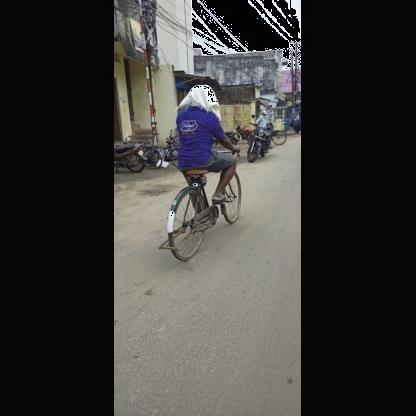Bicycle: (153, 139, 249, 266)
